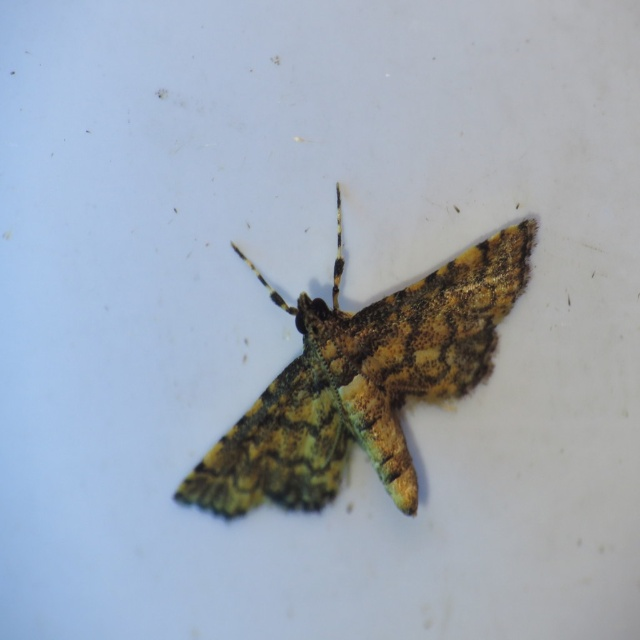Moths and butterflies: (170, 180, 539, 521)
